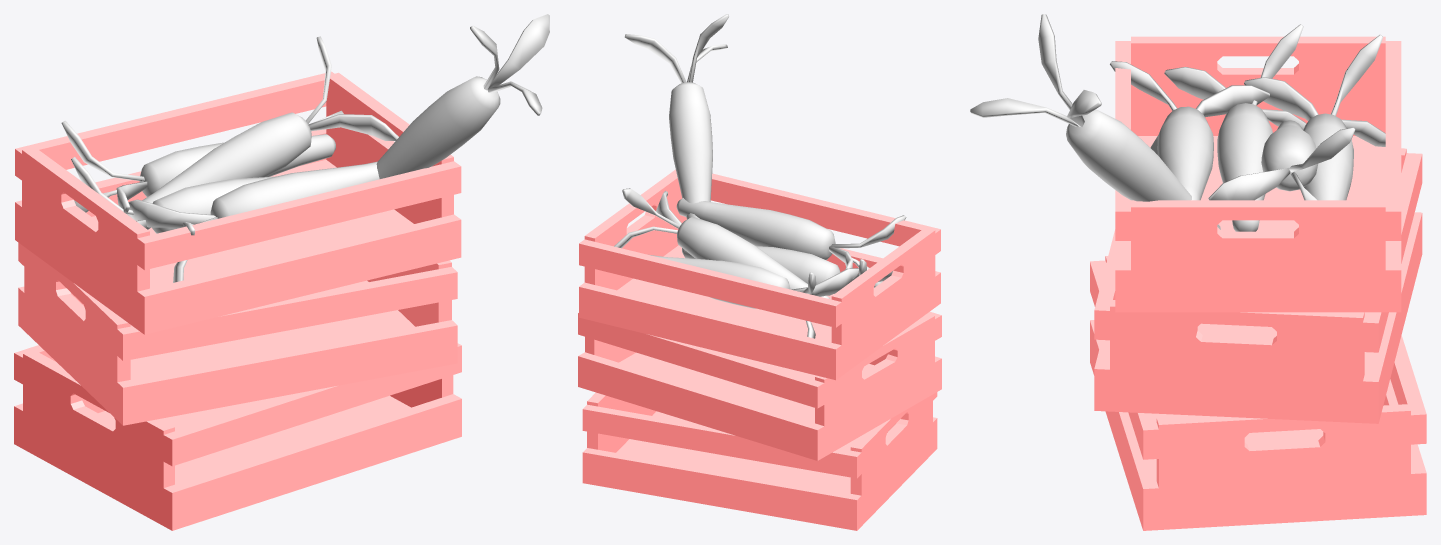
File: Provider - Carrot.fbx
The picture shows the model from 3 angles, left to right: view 1: azimuth 30°, elevation 25°; view 2: azimuth 150°, elevation 25°; view 3: azimuth 270°, elevation 25°; orthographic projection. The views are drawn at different scales.
Visible parts, largest first — view 1: Cube, Cube_003, Cube_002, Cylinder_001_4, Cylinder_001_2, Cylinder_001, Cylinder_002_4, Cylinder_001_3, Cylinder_001_1, Cylinder_002_2, Cylinder_002, Cylinder_002_3; view 2: Cube, Cube_002, Cube_003, Cylinder_001, Cylinder_001_4, Cylinder_001_2, Cylinder_001_1, Cylinder_002_4, Cylinder_001_3, Cylinder_002_2, Cylinder_002_3, Cylinder_002; view 3: Cube, Cube_002, Cube_003, Cylinder_001_4, Cylinder_001, Cylinder_001_1, Cylinder_002_3, Cylinder_002_4, Cylinder_002_2, Cylinder_001_3, Cylinder_002_1, Cylinder_001_2 (+1 smaller).
Part boxes in pixels (<box>): Cube: <box>15,71,461,334</box>; Cube_003: <box>14,343,461,530</box>; Cube_002: <box>18,243,457,425</box>; Cylinder_001_4: <box>376,76,500,178</box>; Cylinder_001_2: <box>127,112,311,220</box>; Cylinder_001: <box>210,161,379,218</box>; Cylinder_002_4: <box>470,14,549,115</box>; Cylinder_001_3: <box>139,134,335,196</box>; Cylinder_001_1: <box>152,176,276,233</box>; Cylinder_002_2: <box>305,36,398,140</box>; Cylinder_002: <box>128,199,217,282</box>; Cylinder_002_3: <box>61,120,147,212</box>; Cube: <box>579,169,940,380</box>; Cube_002: <box>578,311,941,460</box>; Cube_003: <box>582,392,937,530</box>; Cylinder_001: <box>676,198,835,260</box>; Cylinder_001_4: <box>669,82,712,219</box>; Cylinder_001_2: <box>677,217,829,298</box>; Cylinder_001_1: <box>682,246,840,295</box>; Cylinder_002_4: <box>624,14,728,83</box>; Cylinder_001_3: <box>648,254,790,308</box>; Cylinder_002_2: <box>614,188,681,248</box>; Cylinder_002_3: <box>791,268,858,338</box>; Cylinder_002: <box>829,215,906,287</box>; Cube: <box>1115,36,1401,312</box>; Cube_002: <box>1094,148,1422,423</box>; Cube_003: <box>1090,256,1426,530</box>; Cylinder_001_4: <box>1066,109,1220,229</box>; Cylinder_001: <box>1157,106,1213,200</box>; Cylinder_001_1: <box>1217,103,1272,231</box>; Cylinder_002_3: <box>1244,35,1385,146</box>; Cylinder_002_4: <box>970,14,1101,126</box>; Cylinder_002_2: <box>1208,127,1355,200</box>; Cylinder_001_3: <box>1303,113,1353,200</box>; Cylinder_002_1: <box>1164,24,1305,129</box>; Cylinder_001_2: <box>1261,120,1317,191</box>.
Size of what is drawn, in the model's own units: 122 by 129 by 107.
